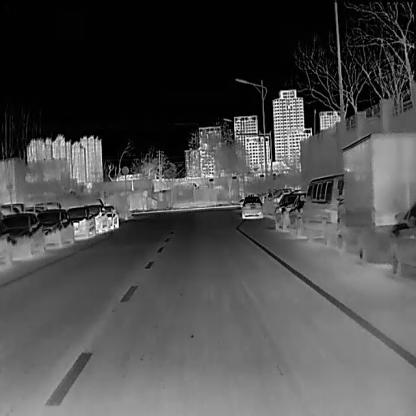car: (297, 172, 343, 245), (1, 211, 45, 261), (390, 201, 416, 278), (36, 208, 74, 249), (66, 205, 96, 239), (272, 192, 298, 230), (284, 192, 306, 236), (88, 203, 109, 233), (239, 195, 263, 219), (103, 205, 118, 230)
truck: (335, 131, 415, 264)
